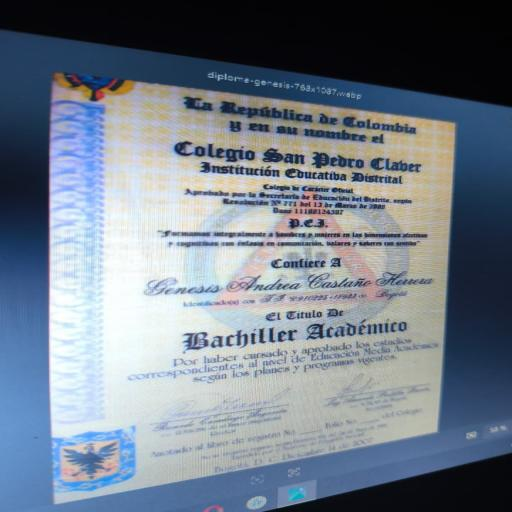bachillerato: (147, 313, 441, 364)
diploma: (50, 74, 454, 502)
firma: (137, 384, 306, 444), (306, 365, 439, 419)
institucion: (166, 133, 434, 193)
nombre: (133, 269, 443, 305)
